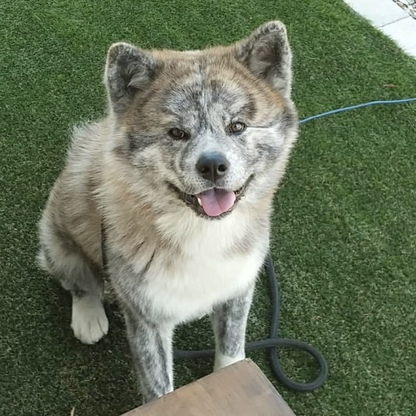akita: (30, 17, 304, 398)
